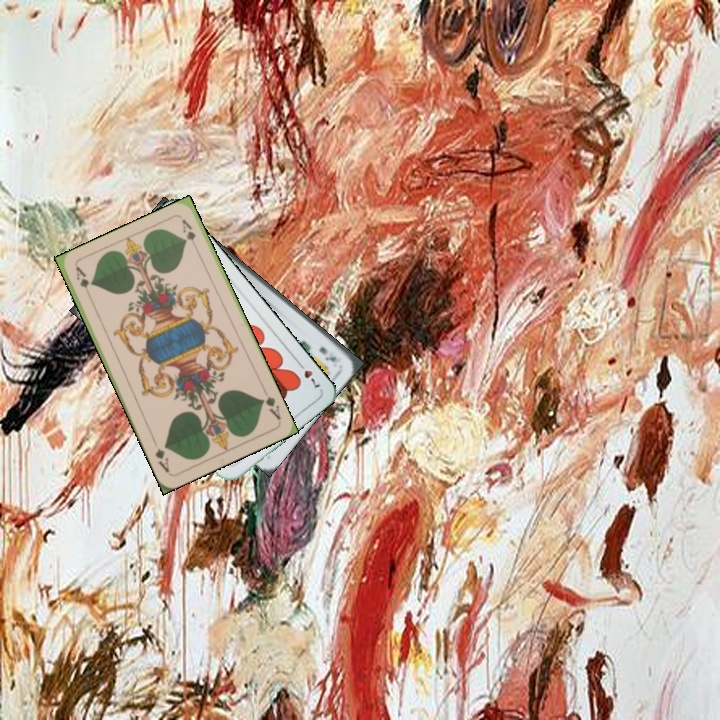EK: (315, 342, 339, 365)
GA: (257, 385, 284, 423), (72, 263, 95, 302)
H7: (293, 357, 323, 392)
